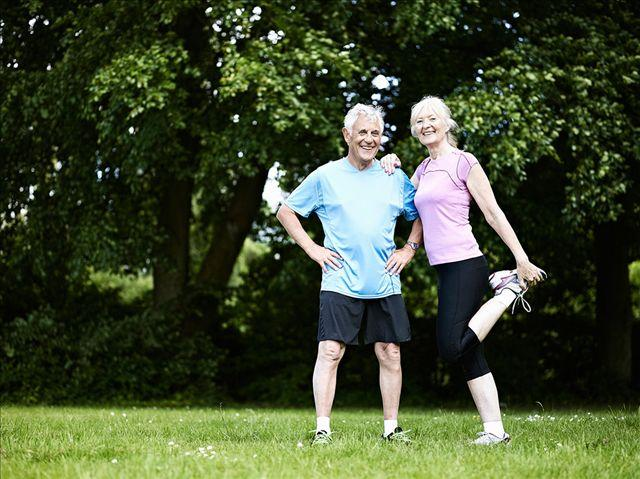standing: (401, 90, 546, 451), (278, 98, 418, 456)
